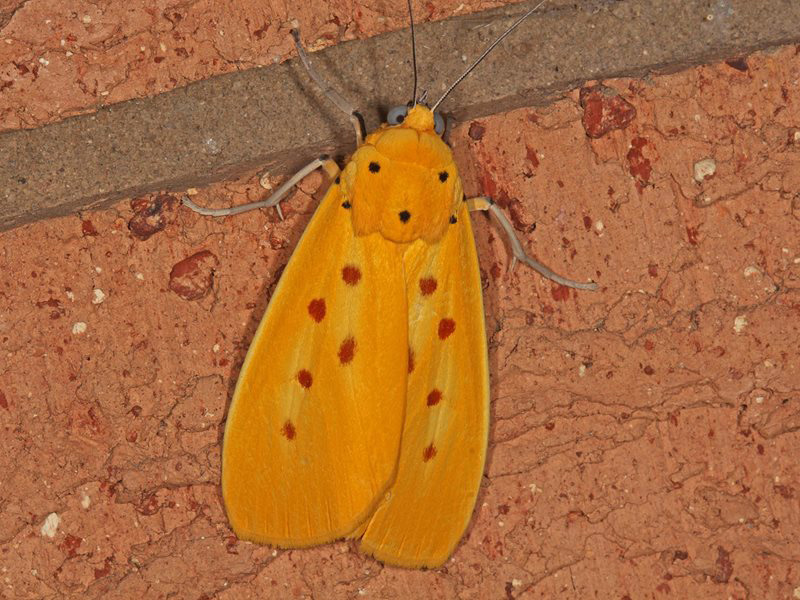Agape chloropyga: (180, 1, 608, 580)
moth: (178, 1, 606, 581)
